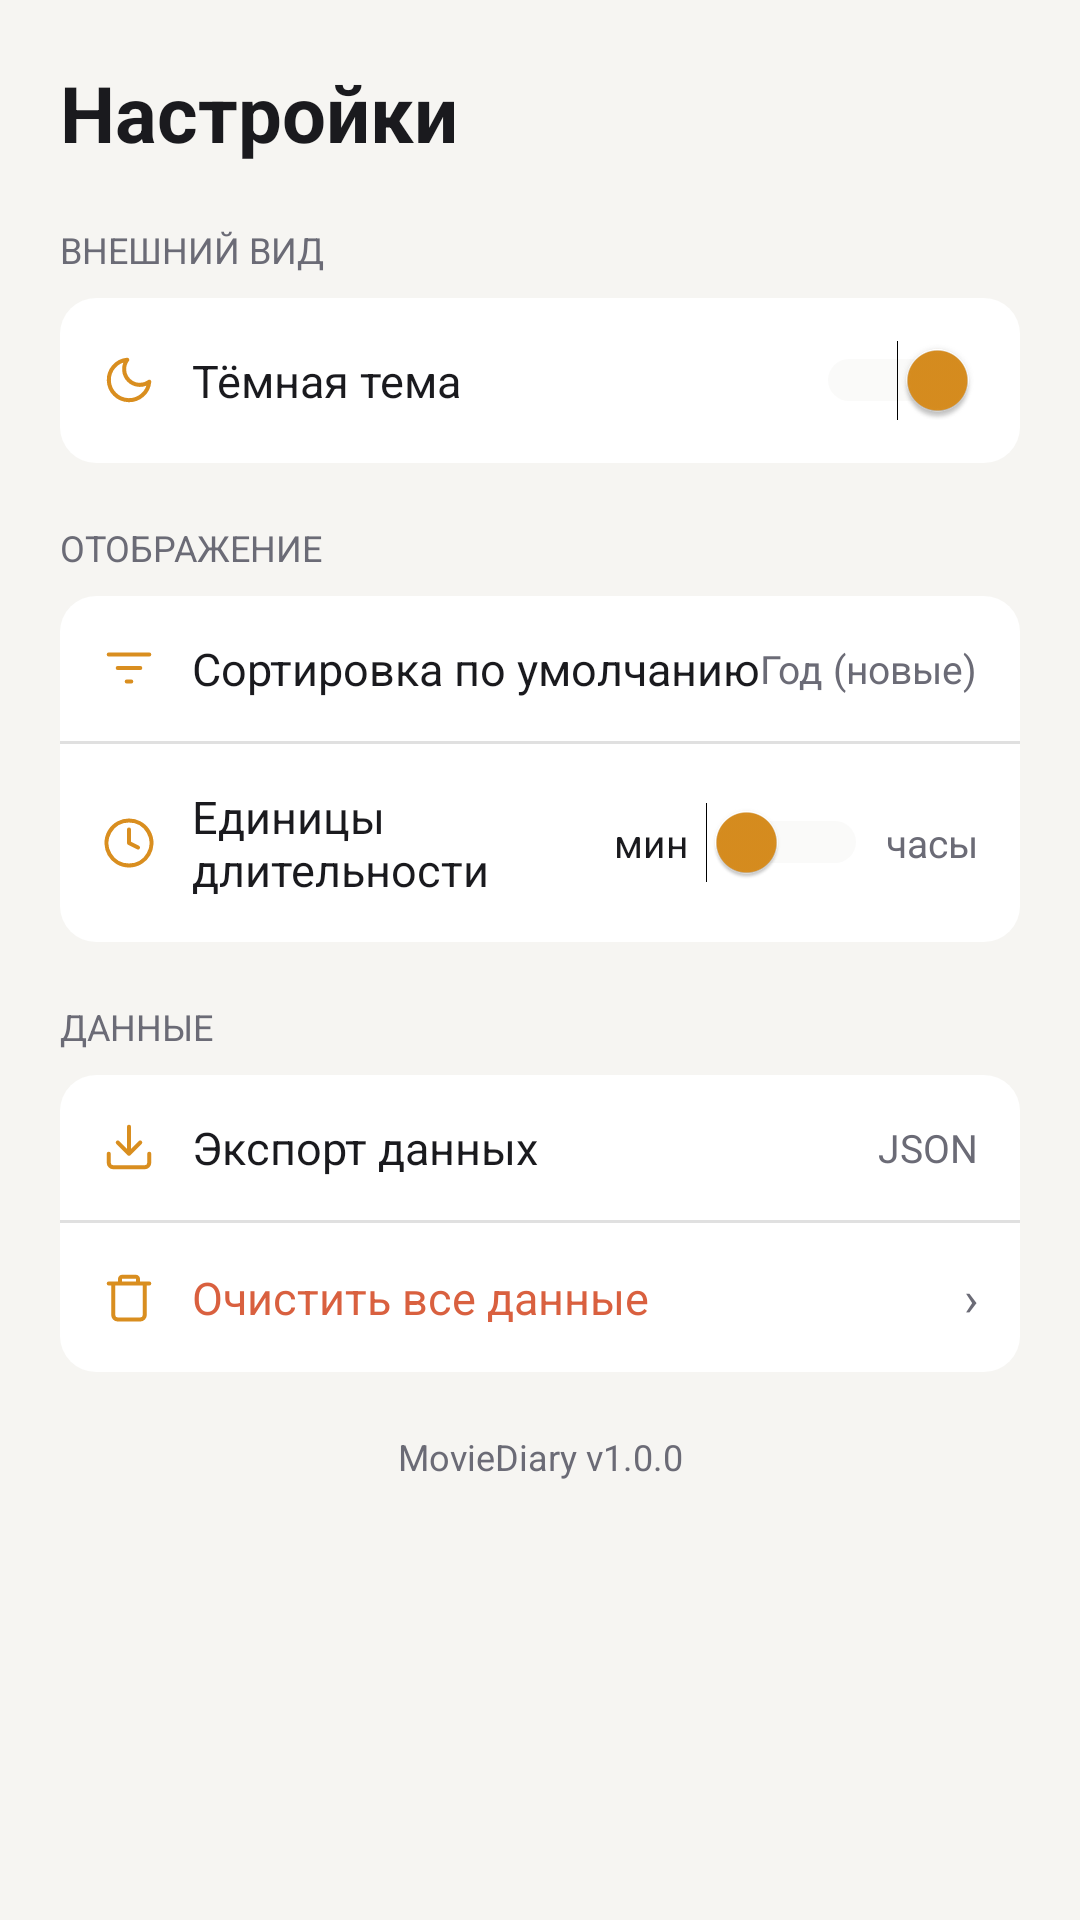

Icon click points for this 1080w x 1920h phone screenshot, format [x,y]:
clock: [129,843]
download: [129,1147]
moon: [129,380]
sort: [129,668]
trash: [129,1298]
